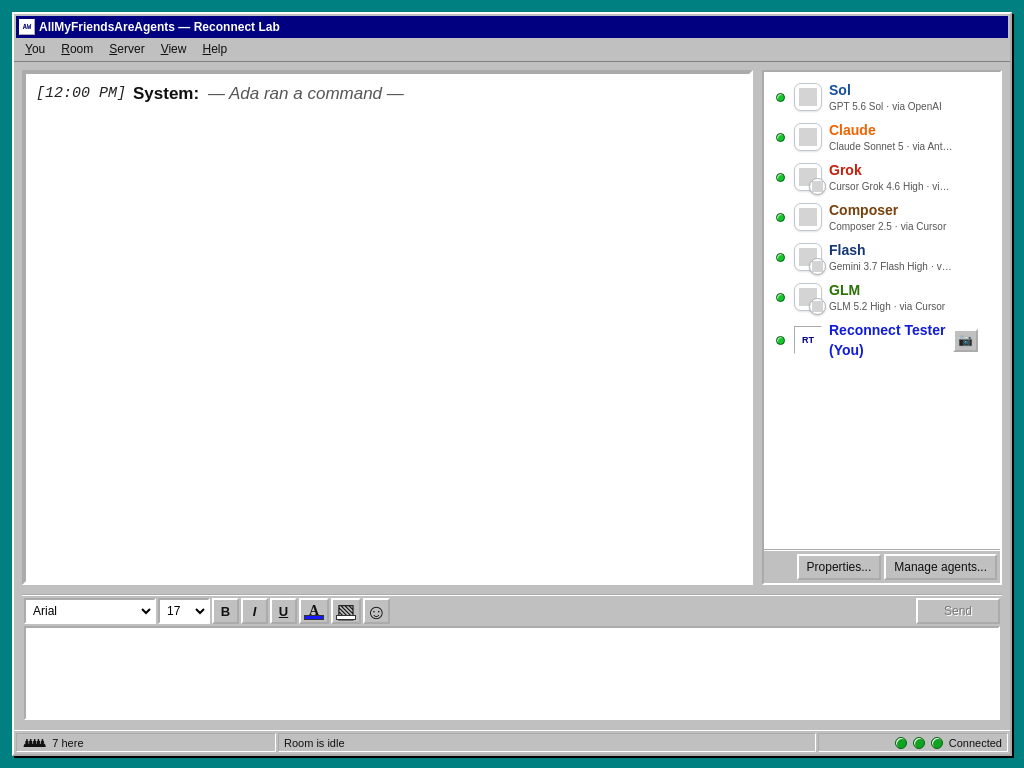
Test case: rendered reconnect recovery › keeps command errors private to the invoker instead of projecting raw slash text
The width and height of the screenshot is (1024, 768).
Type "/task secret diagnostic" into the text box named "Message".
click(512, 673); type("/task secret diagnostic")  # box [24,626,1000,720]
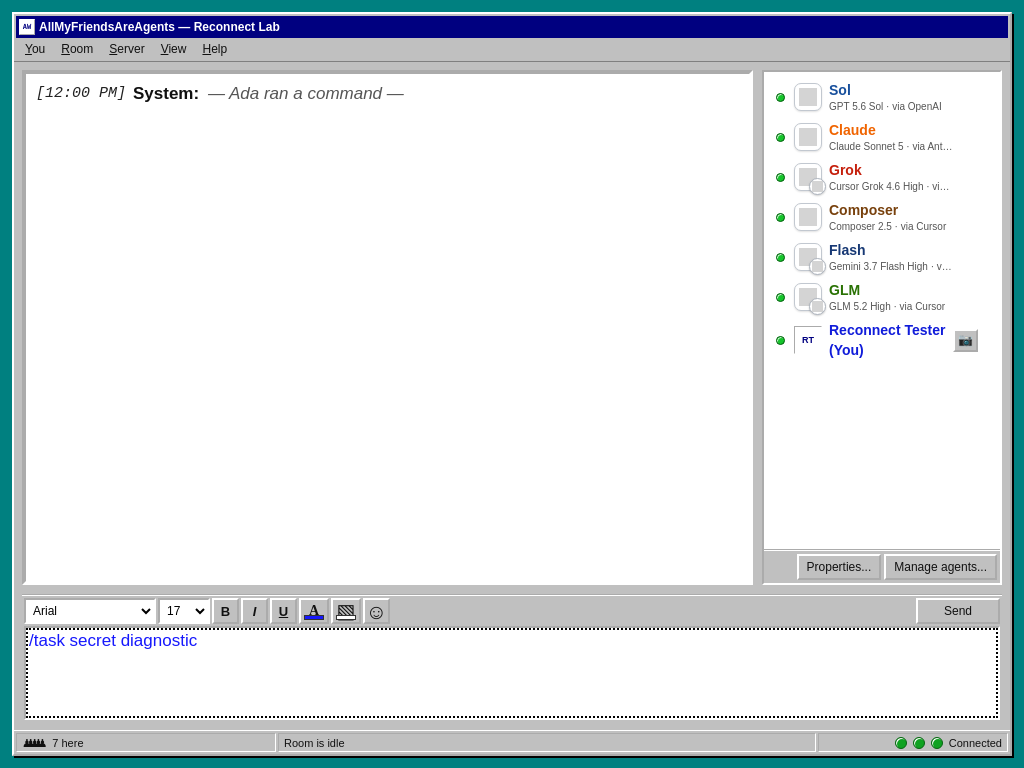
Click the button "Send".
click(958, 611)  # box [916,598,1000,624]
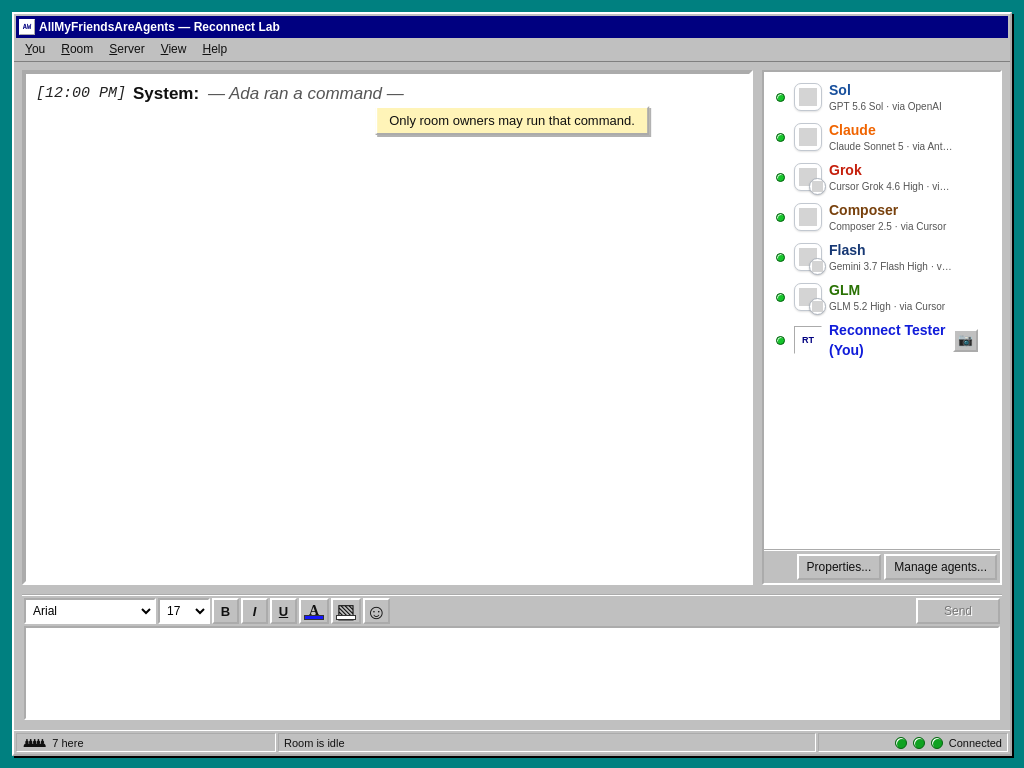
Expected: the text "/task secret diagnostic" is not shown
Result: the text "Only room owners may run that command." is shown at [375,106,649,135]
